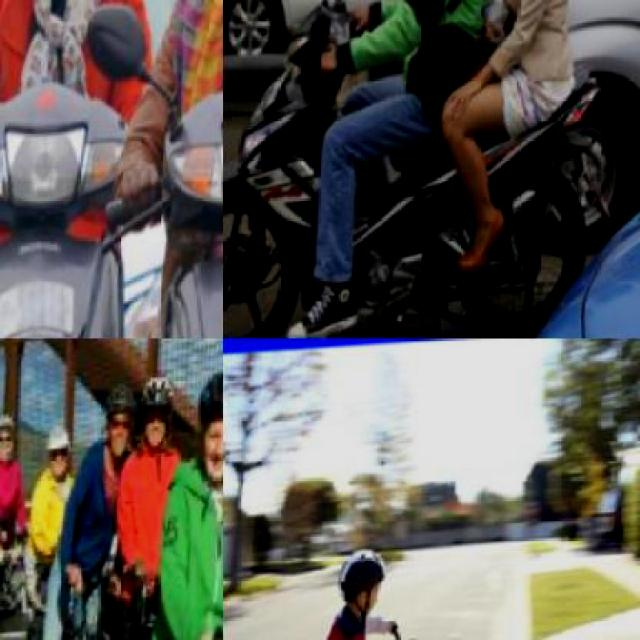With Helmet: (333, 541, 396, 624), (186, 360, 222, 483), (136, 366, 179, 451), (102, 372, 140, 459), (39, 415, 78, 476), (0, 408, 26, 468)
